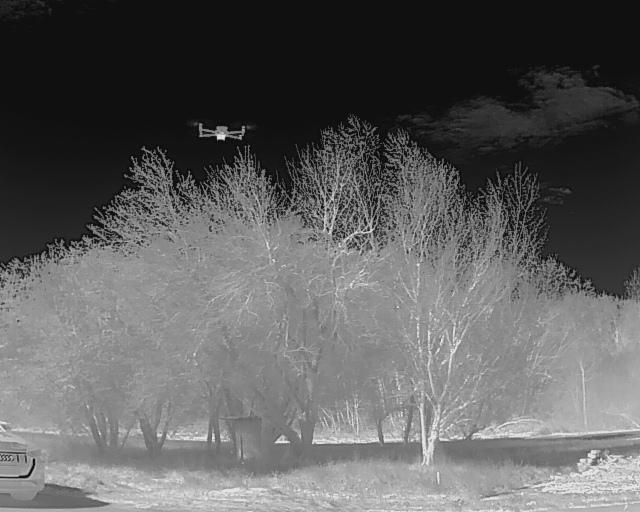drone: (193, 118, 255, 155)
